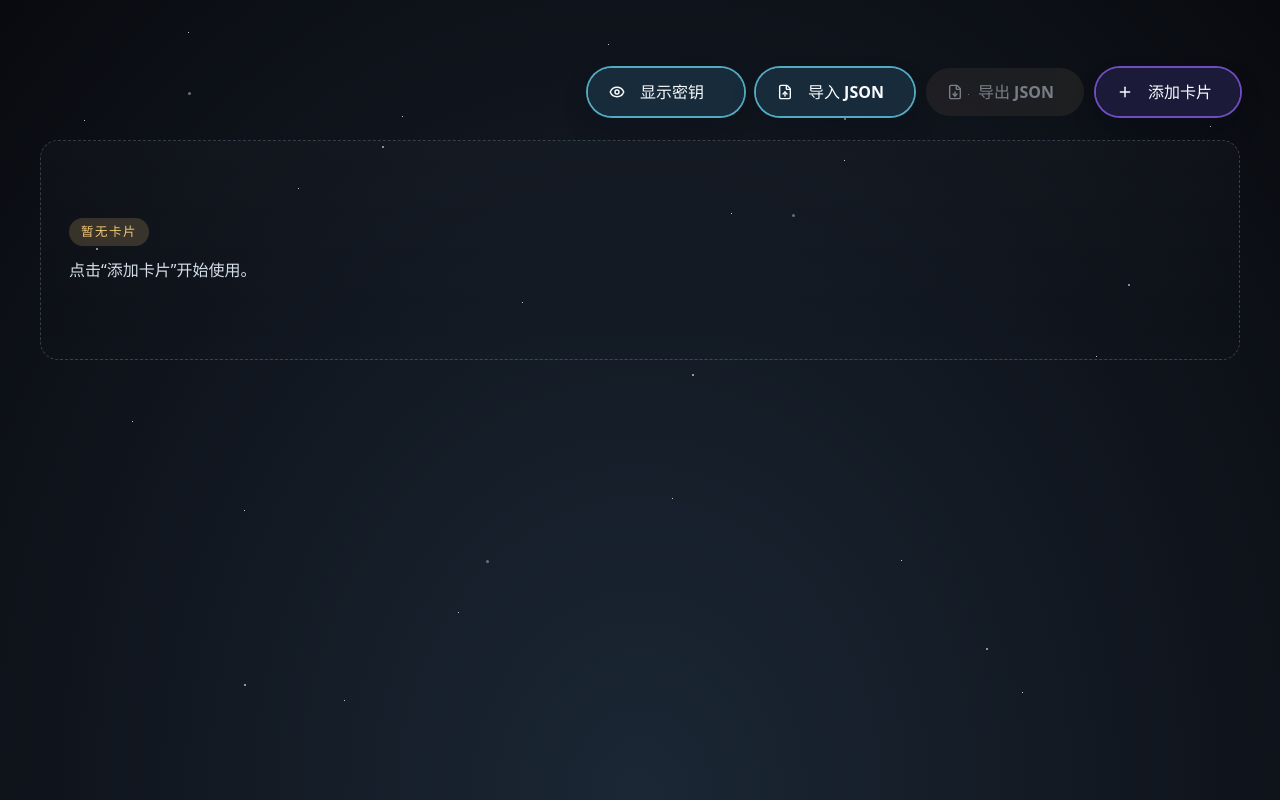
App › 首页默认只显示卡片区与添加入口，操作面板按需打开
Expected: the button with test id "toggle-secret-visibility-button" reads "显示密钥", top-left (588, 68), bottom-right (744, 116)
Expected: the button with test id "import-button" is shown, top-left (756, 68), bottom-right (914, 116)
Click the button with test id "open-composer-button". click: click(1168, 92)
box: top-left (1096, 68), bottom-right (1240, 116)
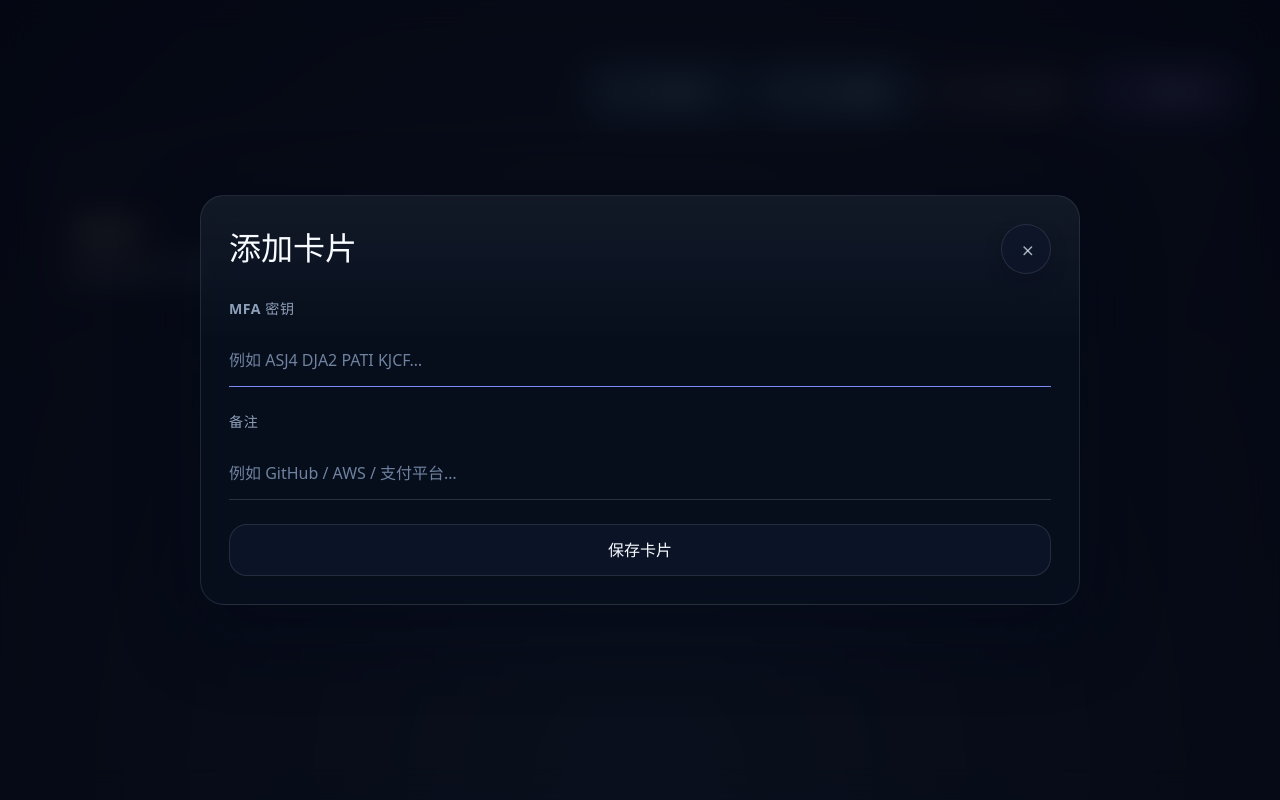
Result: the element with test id "workspace-overlay" is shown
Result: the field with test id "secret-input" is shown at top-left (229, 331), bottom-right (1051, 387)
Result: the field with test id "note-input" is shown at top-left (229, 444), bottom-right (1051, 500)
